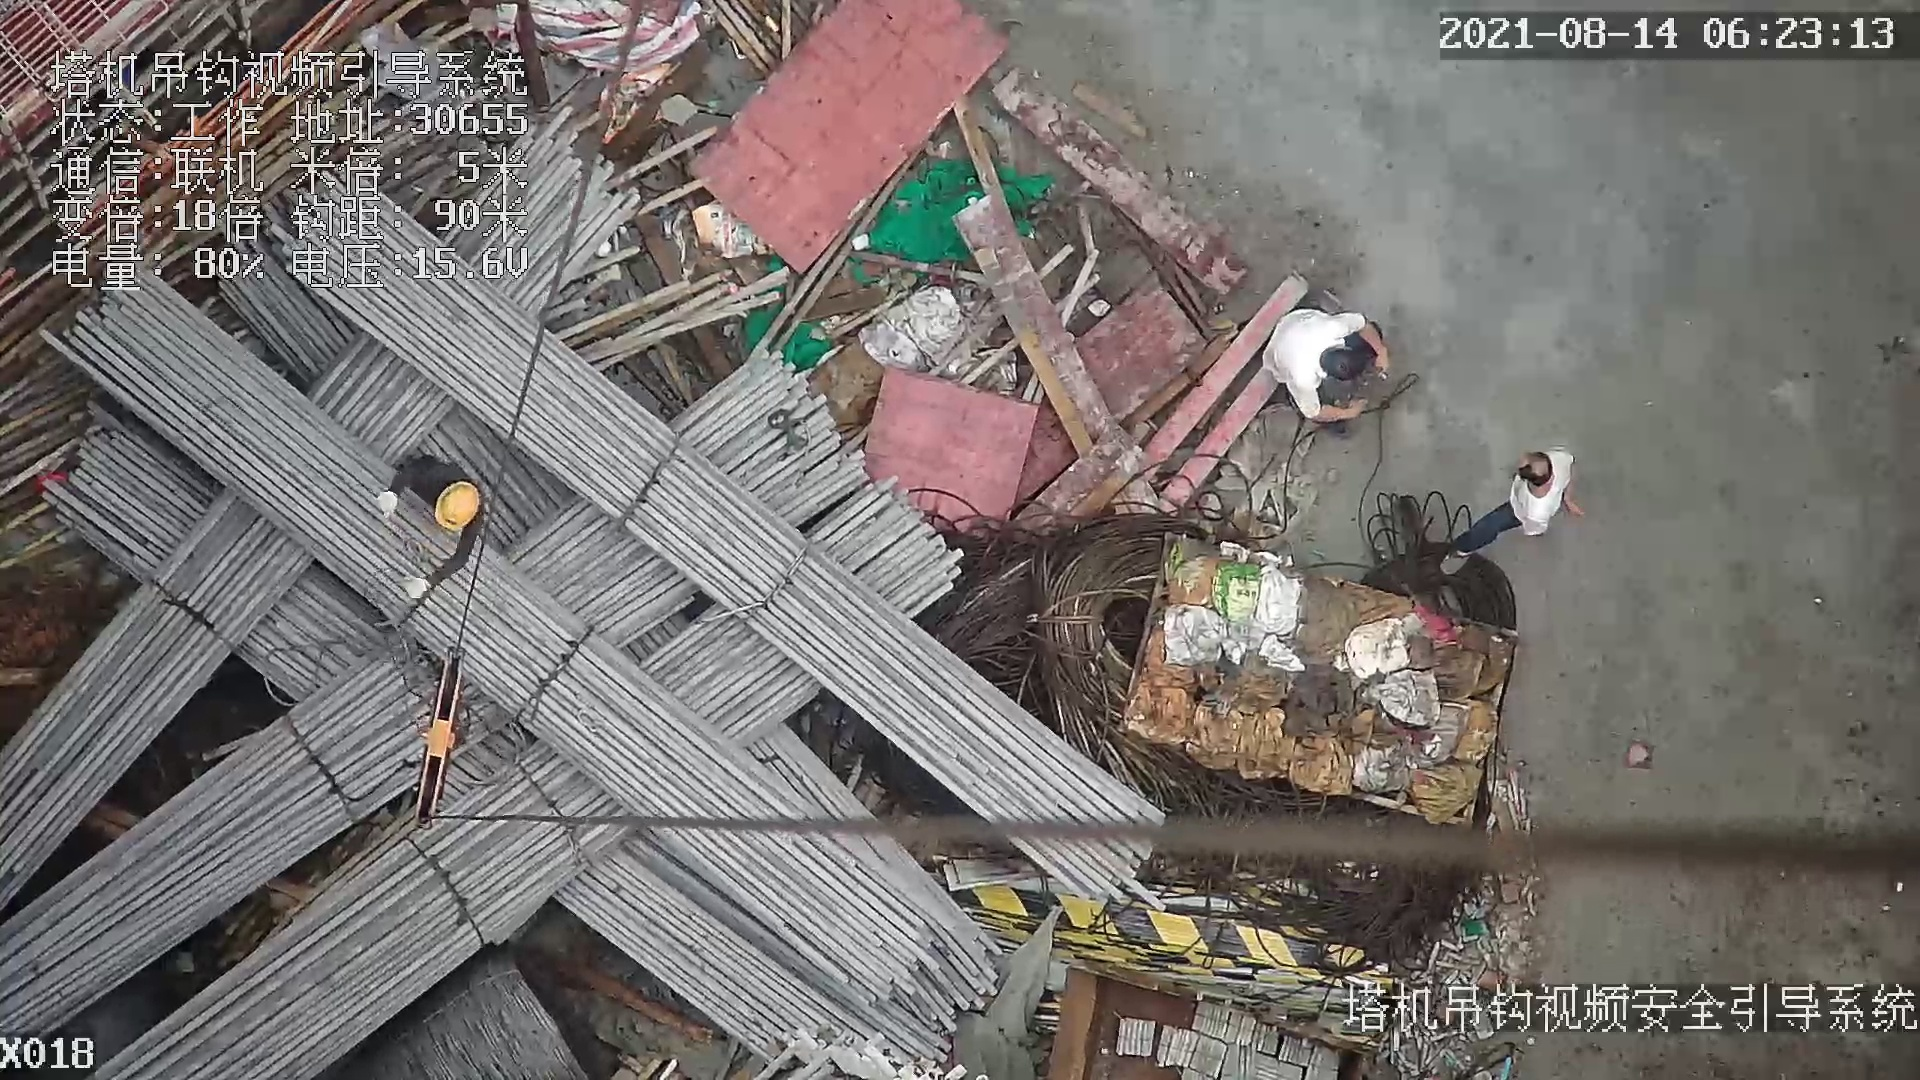board: (678, 2, 1015, 276)
helmet: (434, 475, 480, 532)
hook: (422, 655, 476, 839)
person: (1429, 431, 1583, 571), (1254, 303, 1400, 440), (377, 458, 491, 608)
